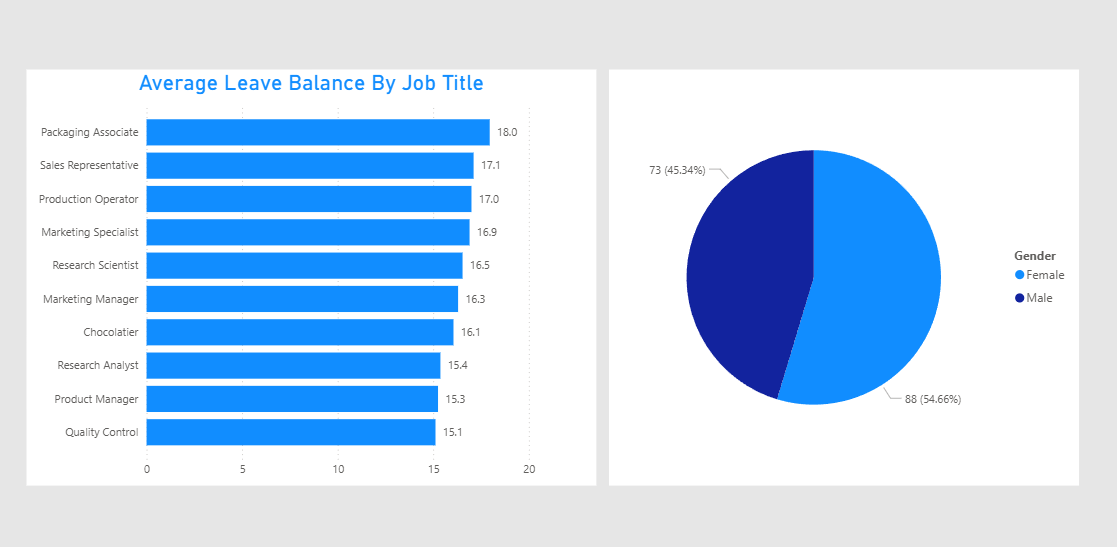

Layout of this report page (visuals, bound fields, positions):
{"tool":"powerbi","page":{"name":"HR-3","canvas":[1280,720],"ordinal":2},"visuals":[{"type":"barChart","title":"Average Leave Balance By Job Title","fields":{"Category":["staff.Job Title"],"Y":["staff.Avg.Leave Balance"]},"box":[63.1,118,625.7,456.9],"z":0},{"type":"pieChart","fields":{"Category":["staff.Gender"],"Y":["staff.Headcount"]},"box":[702.6,118,516,456.9],"z":1}]}

Visuals, with their boxes on the page's 1280x720 design canvas (x1, y1, x2, y2). These are canvas units, not pixel positions in the 1117x547 screenshot, which may show the page scaled, cropped or inside an application window:
"Average Leave Balance By Job Title" barChart: region(63, 118, 689, 575)
pieChart - staff.Gender x staff.Headcount: region(703, 118, 1219, 575)
